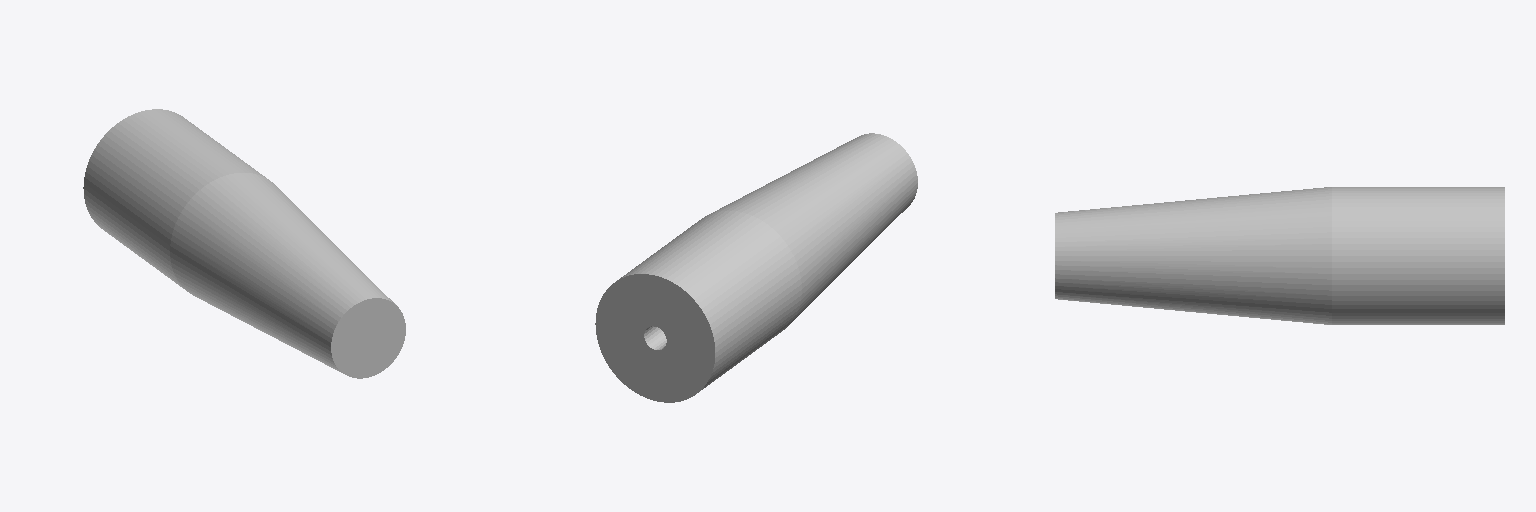
The model's file is toolhalter.obj.
3 renders of one model, left to right at view 1: azimuth 30°, elevation 25°; view 2: azimuth 150°, elevation 25°; view 3: azimuth 270°, elevation 25°, orthographic.
Parts seen in each view (by area): view 1: toolhalter; view 2: toolhalter; view 3: toolhalter.
Part boxes in pixels (bbox=[...]): toolhalter: bbox=[83, 109, 405, 378]; toolhalter: bbox=[595, 133, 917, 402]; toolhalter: bbox=[1055, 187, 1504, 324].
Size of the model in its own units: 16 by 16 by 52.